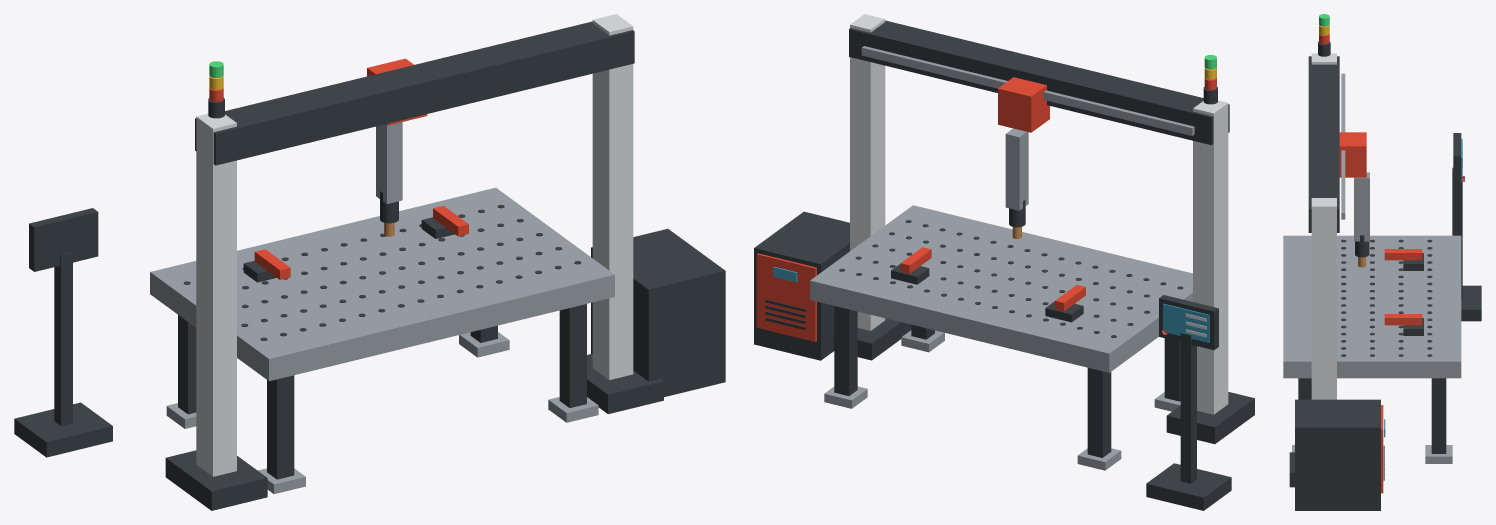
Rendered from Welder_Gantry.glb.
3 renders of one model, left to right at view 1: azimuth 30°, elevation 25°; view 2: azimuth 150°, elevation 25°; view 3: azimuth 270°, elevation 25°, orthographic. The views are drawn at different scales.
Visible parts, largest first — view 1: WeldingTable, GantryUpright (×2), GantryBeam, WeldingPowerSupply, TableLeg (×3), GantryFoot (×2), HMI_Frame, HMI_Foot, HMI_Post, VerticalSlide, LevellingFoot (×2); view 2: WeldingTable, GantryUpright (×2), GantryBeam, WeldingPowerSupply, TableLeg (×3), PowerSupplyFace, GantryFoot (×2), LinearGuide, HMI_Foot, HMI_Post, TorchCarriage, VerticalSlide (+3 smaller); view 3: WeldingTable, WeldingPowerSupply, GantryUpright (×2), GantryBeam, TableLeg (×2), TorchCarriage, VerticalSlide, ClampArm (×2), HMI_Foot, HMI_Post, LinearGuide, HMI_Frame (+4 smaller).
Boxes of the visible parts, bbox=[...] form: WeldingTable: bbox=[150, 187, 614, 381]; GantryUpright (×2): bbox=[196, 14, 633, 476]; GantryBeam: bbox=[195, 21, 634, 165]; WeldingPowerSupply: bbox=[591, 229, 725, 396]; TableLeg (×3): bbox=[178, 304, 586, 479]; GantryFoot (×2): bbox=[165, 353, 663, 510]; HMI_Frame: bbox=[29, 208, 98, 271]; HMI_Foot: bbox=[14, 402, 112, 457]; HMI_Post: bbox=[54, 251, 72, 426]; VerticalSlide: bbox=[376, 122, 402, 203]; LevellingFoot (×2): bbox=[459, 332, 598, 422]; WeldingTable: bbox=[810, 205, 1192, 372]; GantryUpright (×2): bbox=[850, 14, 1228, 414]; GantryBeam: bbox=[849, 20, 1229, 145]; WeldingPowerSupply: bbox=[754, 211, 849, 360]; TableLeg (×3): bbox=[834, 306, 1180, 457]; PowerSupplyFace: bbox=[756, 253, 816, 341]; GantryFoot (×2): bbox=[833, 318, 1254, 444]; LinearGuide: bbox=[861, 46, 1194, 135]; HMI_Foot: bbox=[1146, 463, 1231, 510]; HMI_Post: bbox=[1180, 333, 1196, 483]; TorchCarriage: bbox=[998, 77, 1049, 132]; VerticalSlide: bbox=[1005, 128, 1028, 210]; WeldingTable: bbox=[1283, 235, 1461, 378]; WeldingPowerSupply: bbox=[1295, 399, 1380, 510]; GantryUpright (×2): bbox=[1311, 53, 1336, 399]; GantryBeam: bbox=[1308, 56, 1339, 232]; TableLeg (×2): bbox=[1298, 378, 1446, 453]; TorchCarriage: bbox=[1339, 132, 1366, 177]; VerticalSlide: bbox=[1354, 172, 1369, 241]; ClampArm (×2): bbox=[1384, 249, 1422, 325]; HMI_Foot: bbox=[1461, 285, 1481, 321]; HMI_Post: bbox=[1452, 167, 1462, 299]; LinearGuide: bbox=[1341, 73, 1345, 219]; HMI_Frame: bbox=[1453, 133, 1461, 189].
Size of the model in its own units: 4.41 by 3.04 by 1.72.
